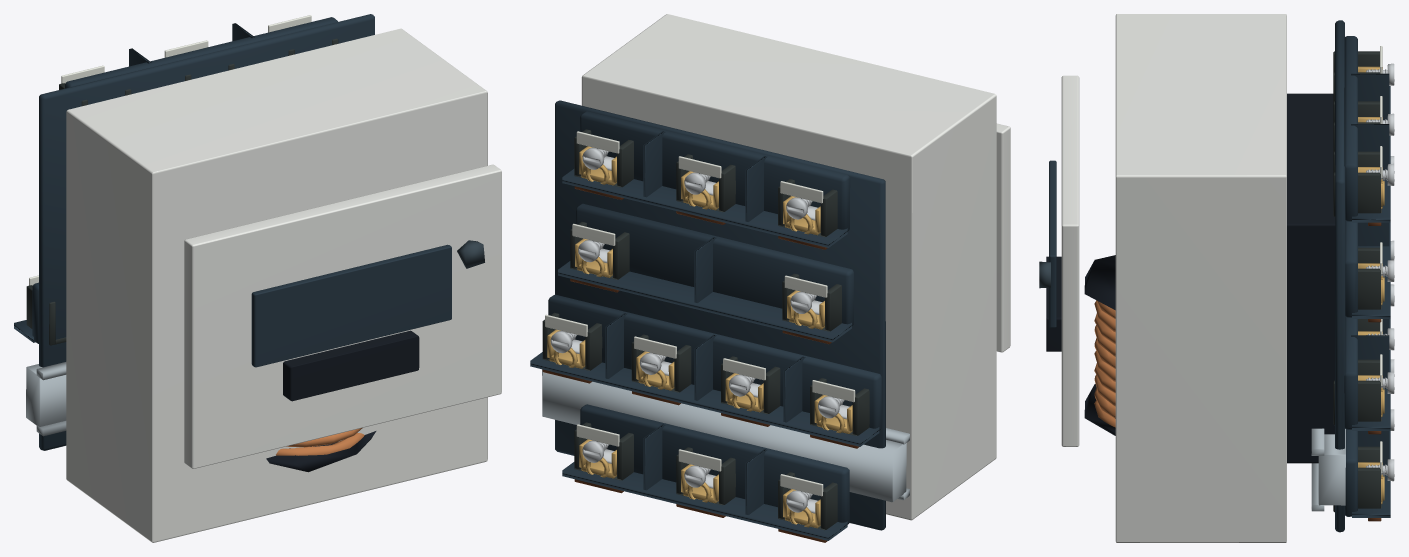
Rendered from contactor_default.low.glb.
3 views of the same model, side by side, from view 1: azimuth 30°, elevation 25°; view 2: azimuth 150°, elevation 25°; view 3: azimuth 270°, elevation 25° (orthographic).
Parts seen in each view (by area): view 1: part:body, part:cover, part:terminals · Original a463fd81, part:mounting · Original 2a8198d3, part:coil · Original 3ff2d46d, part:coil, detail:terminal-clamp:13 · Detail moulded engineering polyme, part:body.001; view 2: part:terminals · Original a463fd81, part:body, part:mounting · Original 2a8198d3, part:cover, detail:terminal-clamp:21 · Detail moulded engineering polyme, detail:terminal-clamp:22 · Detail moulded engineering polyme, detail:terminal-clamp:6 · Detail moulded engineering polymer, detail:terminal-clamp:1 · Detail moulded engineering polymer, detail:terminal-clamp:2 · Detail moulded engineering polymer, detail:terminal-clamp:13 · Detail moulded engineering polyme, detail:terminal-clamp:5 · Detail moulded engineering polymer, detail:terminal-clamp:14 · Detail moulded engineering polyme (+27 smaller); view 3: part:body, part:terminals · Original a463fd81, part:cover, part:mounting · Original 2a8198d3, part:coil, part:coil · Original 3ff2d46d, detail:terminal-clamp:5 · Detail moulded engineering polymer, detail:terminal-clamp:22 · Detail moulded engineering polyme, detail:terminal-clamp:6 · Detail moulded engineering polymer, detail:terminal-clamp:A2 · Detail moulded engineering polyme, detail:terminal-clamp:3 · Detail moulded engineering polymer, detail:terminal-clamp:1 · Detail moulded engineering polymer.
Part boxes in pixels (box(x1,y1,x2,y2)): part:body: box(66, 28, 487, 542); part:cover: box(184, 164, 501, 468); part:terminals · Original a463fd81: box(14, 14, 374, 450); part:mounting · Original 2a8198d3: box(26, 362, 66, 436); part:coil · Original 3ff2d46d: box(266, 431, 376, 472); part:coil: box(276, 428, 364, 455); detail:terminal-clamp:13 · Detail moulded engineering polyme: box(26, 285, 66, 345); part:body.001: box(457, 240, 484, 268); part:terminals · Original a463fd81: box(530, 100, 885, 540); part:body: box(581, 14, 996, 520); part:mounting · Original 2a8198d3: box(542, 369, 909, 502); part:cover: box(996, 123, 1010, 352); detail:terminal-clamp:21 · Detail moulded engineering polyme: box(631, 334, 691, 392); detail:terminal-clamp:22 · Detail moulded engineering polyme: box(542, 312, 602, 370); detail:terminal-clamp:6 · Detail moulded engineering polymer: box(574, 422, 633, 480); detail:terminal-clamp:1 · Detail moulded engineering polymer: box(778, 179, 837, 237); detail:terminal-clamp:2 · Detail moulded engineering polymer: box(778, 472, 837, 530); detail:terminal-clamp:13 · Detail moulded engineering polyme: box(810, 378, 869, 435); detail:terminal-clamp:5 · Detail moulded engineering polymer: box(574, 129, 633, 187); detail:terminal-clamp:14 · Detail moulded engineering polyme: box(721, 356, 780, 414); part:body: box(1115, 14, 1335, 542); part:terminals · Original a463fd81: box(1335, 20, 1390, 532); part:cover: box(1046, 75, 1079, 446); part:mounting · Original 2a8198d3: box(1311, 428, 1345, 511); part:coil: box(1094, 300, 1115, 427); part:coil · Original 3ff2d46d: box(1084, 255, 1115, 435); detail:terminal-clamp:5 · Detail moulded engineering polymer: box(1333, 151, 1381, 216); detail:terminal-clamp:22 · Detail moulded engineering polyme: box(1333, 359, 1381, 425); detail:terminal-clamp:6 · Detail moulded engineering polymer: box(1333, 446, 1381, 512); detail:terminal-clamp:A2 · Detail moulded engineering polyme: box(1358, 247, 1381, 309); detail:terminal-clamp:3 · Detail moulded engineering polymer: box(1333, 101, 1380, 151); detail:terminal-clamp:1 · Detail moulded engineering polymer: box(1333, 51, 1379, 101).
Size of the model in its own units: 0.9558 by 0.949 by 0.8298.
